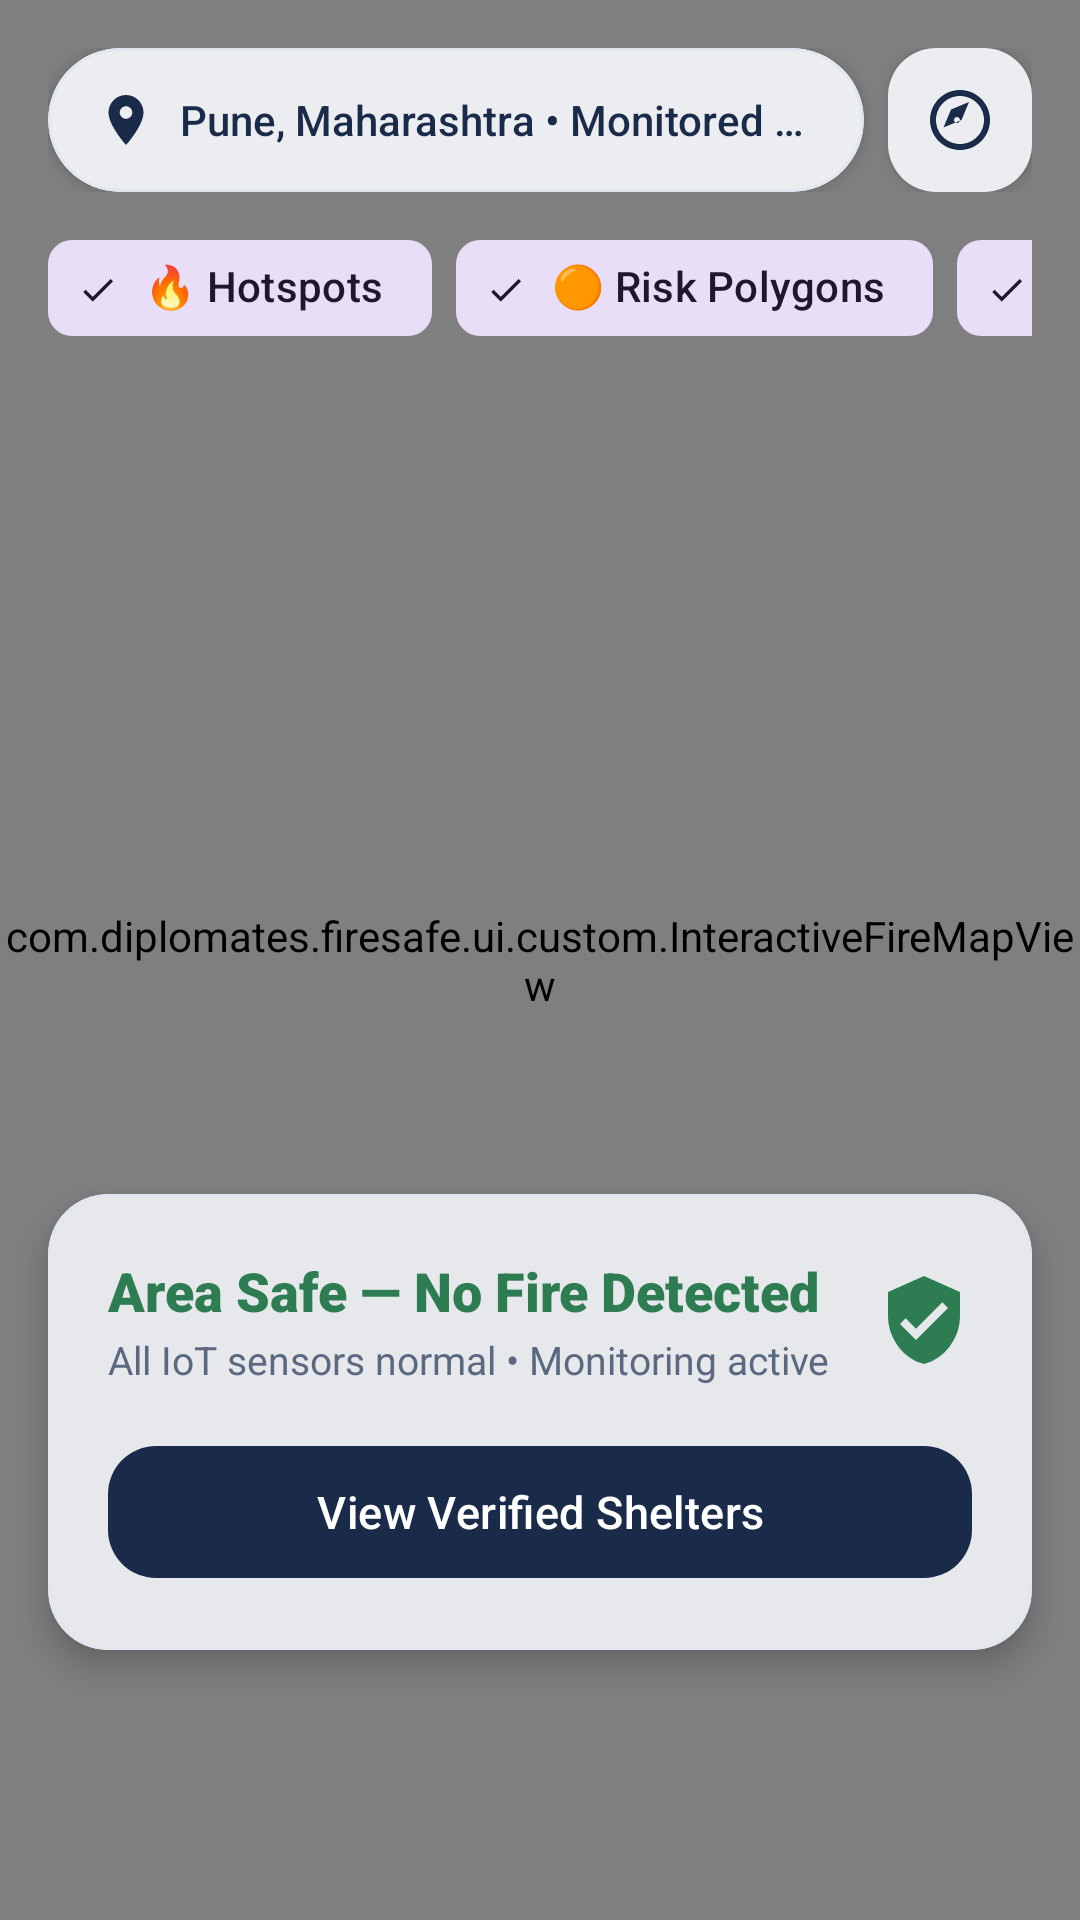

Where to tap for icons on this 1080 × 1920 app screen, as (x,y):
location pin: (126,120)
Recenter: (960,120)
shield check: (924,1320)
